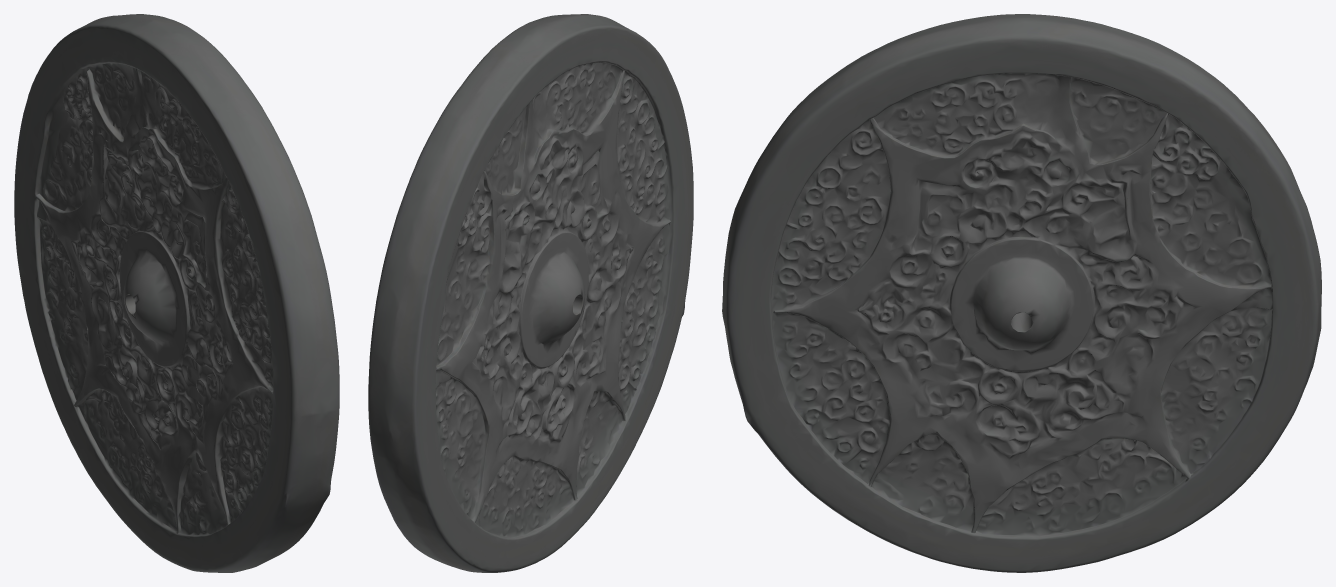
3 renders of one model, left to right at view 1: azimuth 30°, elevation 25°; view 2: azimuth 150°, elevation 25°; view 3: azimuth 270°, elevation 25°, orthographic. The views are drawn at different scales.
Visible parts, largest first — view 1: tripo_node_d4f195bb-bb0e-4bf1-b111-a896fdd6f95e; view 2: tripo_node_d4f195bb-bb0e-4bf1-b111-a896fdd6f95e; view 3: tripo_node_d4f195bb-bb0e-4bf1-b111-a896fdd6f95e.
Boxes of the visible parts, box(x1,y1,x2,y2) form: tripo_node_d4f195bb-bb0e-4bf1-b111-a896fdd6f95e: box(14, 14, 339, 572); tripo_node_d4f195bb-bb0e-4bf1-b111-a896fdd6f95e: box(368, 14, 693, 572); tripo_node_d4f195bb-bb0e-4bf1-b111-a896fdd6f95e: box(722, 14, 1321, 572).
Bounding box in the file's own units: 0.2122 × 1 × 0.9971.
Materials: 1 (1 with a texture image).
